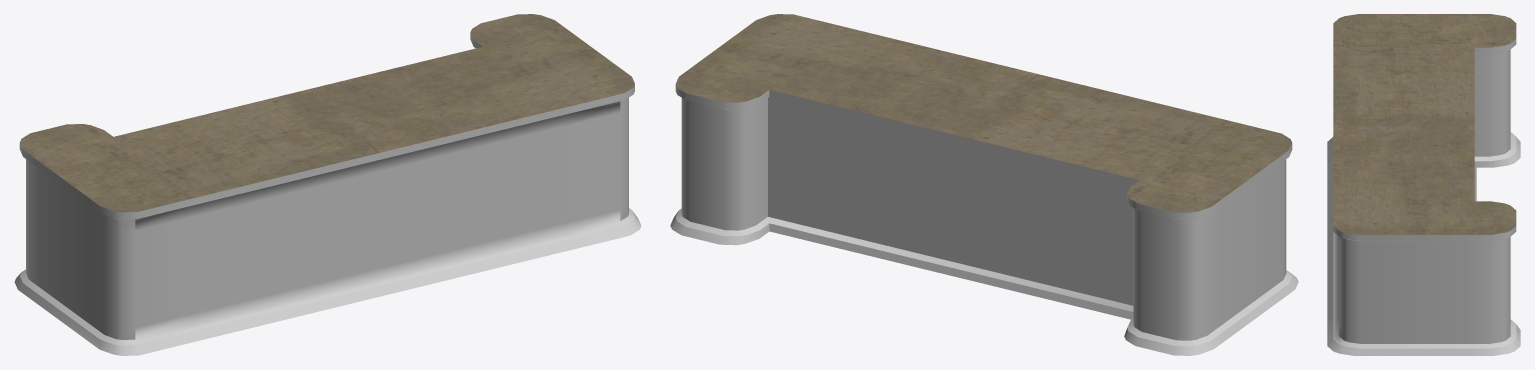
File: Prop_Bench_01.FBX
3 renders of one model, left to right at view 1: azimuth 30°, elevation 25°; view 2: azimuth 150°, elevation 25°; view 3: azimuth 270°, elevation 25°, orthographic. The views are drawn at different scales.
Visible parts, largest first — view 1: Prop_Bench_01; view 2: Prop_Bench_01; view 3: Prop_Bench_01.
Boxes of the visible parts, x1,y1,x2,y2 form: Prop_Bench_01: (14, 14, 641, 355); Prop_Bench_01: (670, 14, 1298, 355); Prop_Bench_01: (1327, 14, 1520, 355).
Size of the model in its own units: 3.21 by 0.7994 by 1.17.
